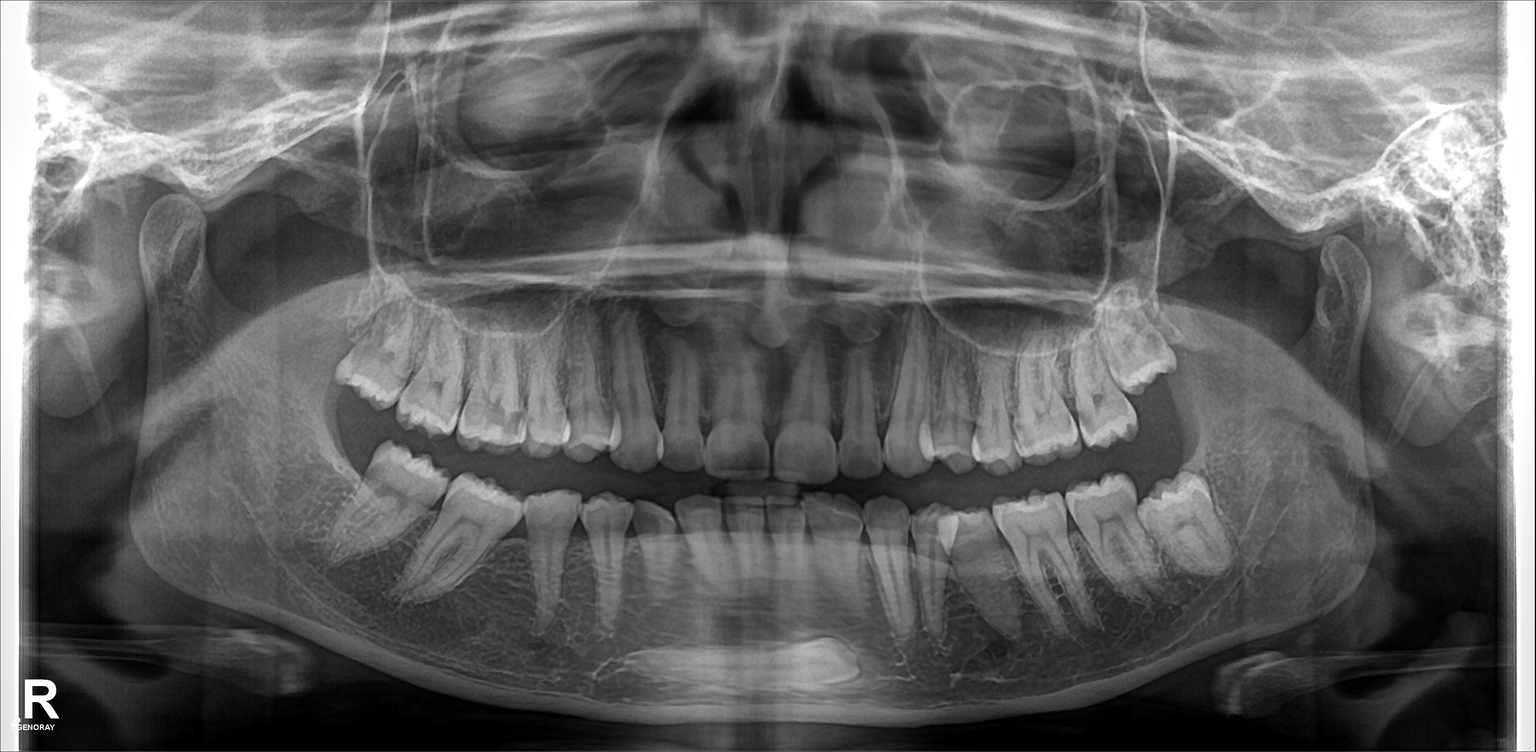Impacted Third Molar: (1091, 302, 1171, 390), (358, 460, 434, 550)
